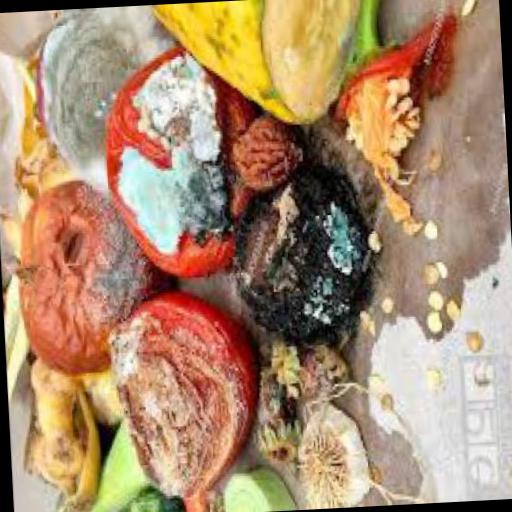biodegradable: (96, 36, 274, 280), (318, 0, 461, 236), (2, 177, 168, 374), (101, 288, 259, 493), (28, 4, 182, 193), (149, 0, 369, 132), (226, 155, 374, 334), (0, 18, 66, 200), (18, 378, 100, 512), (81, 413, 180, 512), (292, 398, 369, 508), (28, 358, 86, 479), (0, 204, 32, 413), (228, 106, 306, 191), (251, 368, 298, 460), (292, 339, 350, 400), (219, 464, 290, 512), (261, 331, 301, 391), (77, 374, 125, 418), (356, 302, 374, 332), (460, 329, 482, 351), (421, 283, 439, 308), (362, 226, 379, 251), (420, 308, 437, 330), (420, 212, 434, 238), (442, 298, 458, 320), (420, 260, 436, 282), (422, 146, 438, 168), (453, 0, 475, 16), (419, 366, 436, 384), (434, 259, 448, 278), (364, 368, 378, 386), (378, 294, 392, 311), (376, 391, 390, 408), (505, 464, 512, 497), (365, 464, 376, 475)
